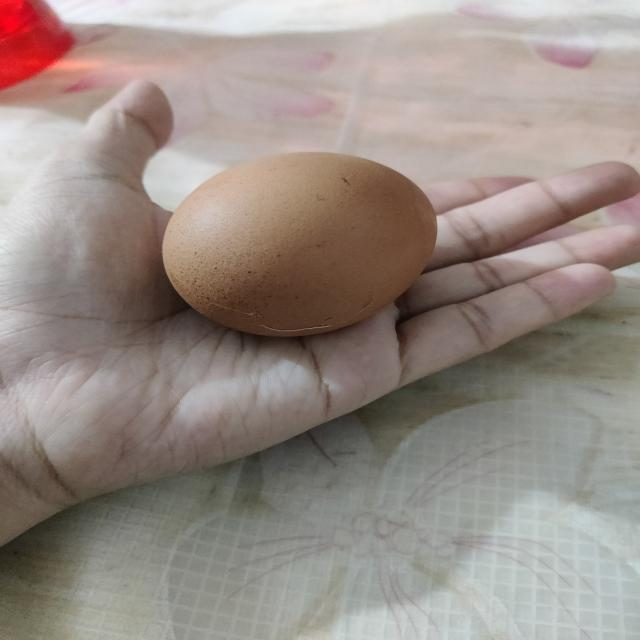Egg: (161, 145, 447, 342)
